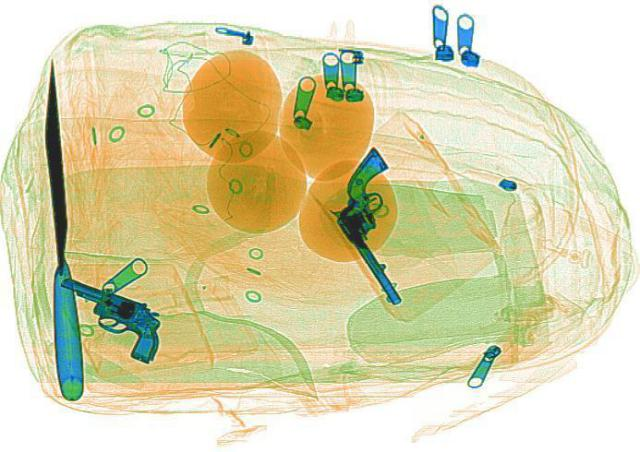Gun: (295, 145, 469, 303), (26, 273, 188, 362)
Knife: (34, 57, 86, 399)
